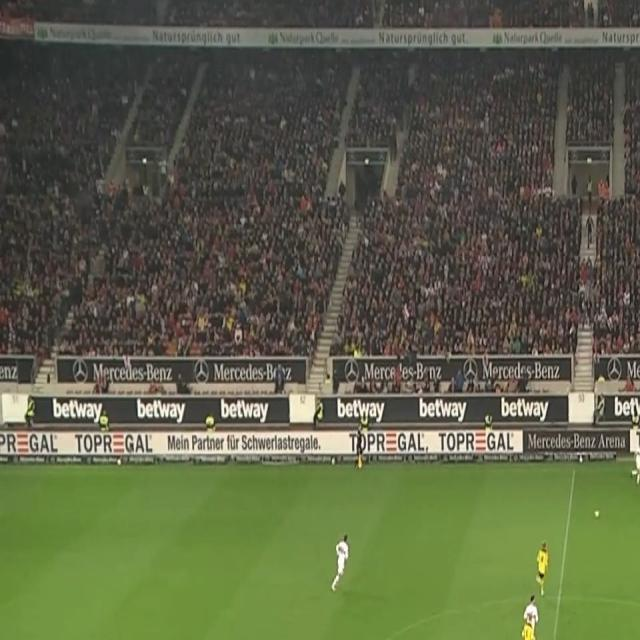ball: (594, 506, 600, 520)
